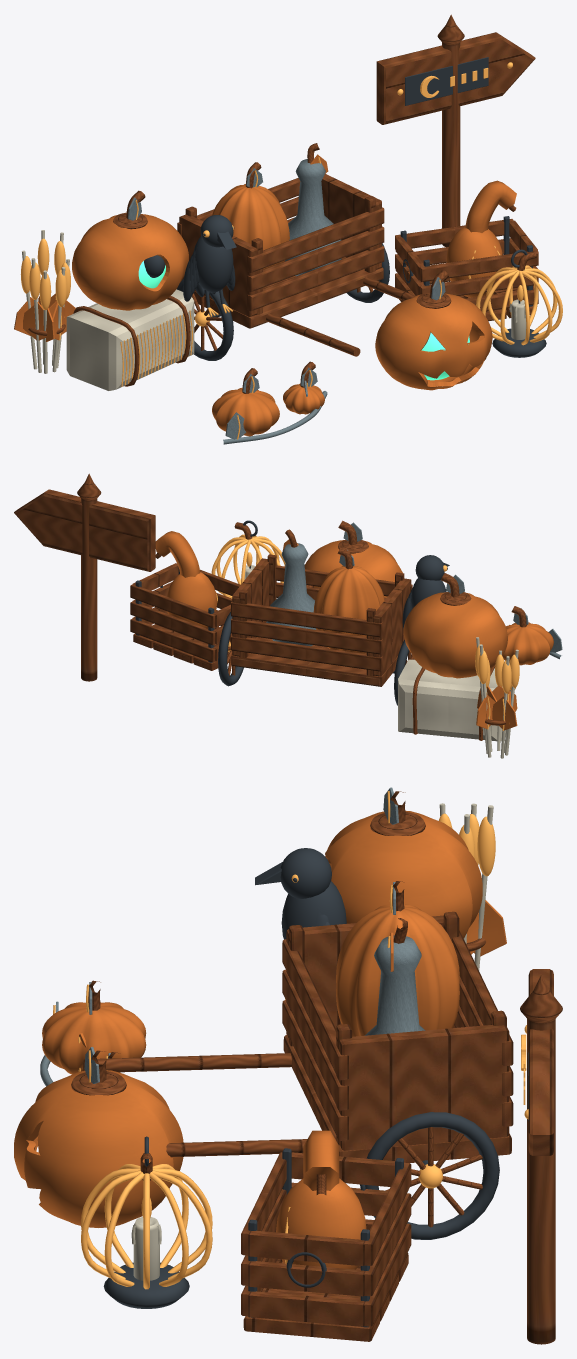
The model's file is hollowwick-halloween-hollowwick-harvest-display-34f19569__21657.glb.
3 renders of one model, top to bottom at view 1: azimuth 30°, elevation 25°; view 2: azimuth 150°, elevation 25°; view 3: azimuth 270°, elevation 25°, orthographic. The views are drawn at different scales.
Visible parts, largest first — view 1: 000-harvest-handcart/0, 010-hollowwick-trail-sign/0, 008-carved-grin-pumpkin/0, 003-bound-hay-bale/0, 004-eclipse-pumpkin/0, 005-slatted-harvest-crate/0, 012-watchful-raven/0, 001-tall-ribbed-pumpkin/0, 007-pumpkin-vine-patch/0, 006-crookneck-gourd/0, 011-pumpkin-cage-lantern/1, 002-bottle-gourd/0 (+13 smaller); view 2: 000-harvest-handcart/0, 010-hollowwick-trail-sign/0, 005-slatted-harvest-crate/0, 004-eclipse-pumpkin/0, 003-bound-hay-bale/0, 001-tall-ribbed-pumpkin/0, 006-crookneck-gourd/0, 008-carved-grin-pumpkin/0, 002-bottle-gourd/0, 007-pumpkin-vine-patch/0, 011-pumpkin-cage-lantern/1, 012-watchful-raven/0 (+7 smaller); view 3: 000-harvest-handcart/0, 005-slatted-harvest-crate/0, 008-carved-grin-pumpkin/0, 004-eclipse-pumpkin/0, 010-hollowwick-trail-sign/0, 001-tall-ribbed-pumpkin/0, 011-pumpkin-cage-lantern/1, 006-crookneck-gourd/0, 007-pumpkin-vine-patch/0, 012-watchful-raven/0, 000-harvest-handcart/1, 002-bottle-gourd/0 (+8 smaller).
Part boxes in pixels (<box>): 000-harvest-handcart/0: <box>177,174,415,356</box>; 010-hollowwick-trail-sign/0: <box>376,14,535,247</box>; 008-carved-grin-pumpkin/0: <box>375,293,492,390</box>; 003-bound-hay-bale/0: <box>66,289,194,390</box>; 004-eclipse-pumpkin/0: <box>72,214,188,310</box>; 005-slatted-harvest-crate/0: <box>395,219,538,321</box>; 012-watchful-raven/0: <box>183,215,236,307</box>; 001-tall-ribbed-pumpkin/0: <box>212,184,289,269</box>; 007-pumpkin-vine-patch/0: <box>212,384,324,436</box>; 006-crookneck-gourd/0: <box>446,180,516,297</box>; 011-pumpkin-cage-lantern/1: <box>476,265,562,345</box>; 002-bottle-gourd/0: <box>285,159,341,276</box>; 000-harvest-handcart/0: <box>227,554,414,686</box>; 010-hollowwick-trail-sign/0: <box>14,473,155,681</box>; 005-slatted-harvest-crate/0: <box>130,563,240,670</box>; 004-eclipse-pumpkin/0: <box>403,592,507,678</box>; 003-bound-hay-bale/0: <box>398,659,505,741</box>; 001-tall-ribbed-pumpkin/0: <box>313,566,384,653</box>; 006-crookneck-gourd/0: <box>155,531,217,628</box>; 008-carved-grin-pumpkin/0: <box>304,540,402,597</box>; 002-bottle-gourd/0: <box>266,543,316,646</box>; 007-pumpkin-vine-patch/0: <box>502,622,553,665</box>; 011-pumpkin-cage-lantern/1: <box>211,534,285,598</box>; 012-watchful-raven/0: <box>402,555,449,628</box>; 000-harvest-handcart/0: <box>83,911,513,1227</box>; 005-slatted-harvest-crate/0: <box>241,1152,411,1341</box>; 008-carved-grin-pumpkin/0: <box>14,1070,183,1227</box>; 004-eclipse-pumpkin/0: <box>325,810,482,938</box>; 010-hollowwick-trail-sign/0: <box>520,969,562,1344</box>; 001-tall-ribbed-pumpkin/0: <box>336,904,459,1036</box>; 011-pumpkin-cage-lantern/1: <box>81,1164,212,1289</box>; 006-crookneck-gourd/0: <box>276,1130,366,1269</box>; 007-pumpkin-vine-patch/0: <box>42,1002,146,1074</box>; 012-watchful-raven/0: <box>255,848,346,939</box>; 000-harvest-handcart/1: <box>365,1112,499,1239</box>; 002-bottle-gourd/0: <box>365,935,425,1035</box>.
Size of the model in its own units: 4.13 by 1.68 by 2.3.
Materials: 7 (4 with a texture image).
